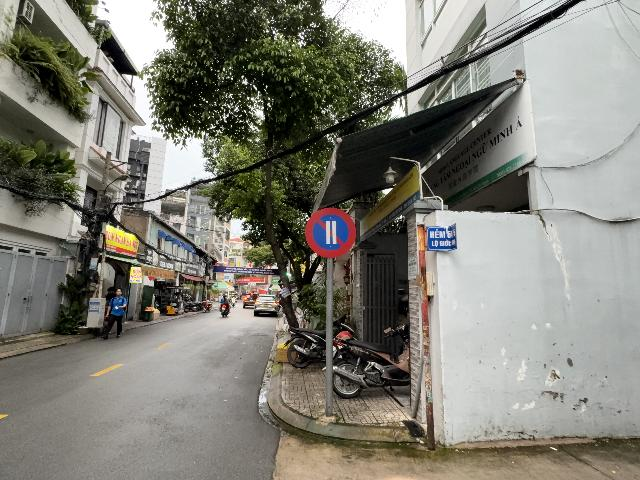cam-do-xe-ngay-chan: (305, 207, 356, 258)
